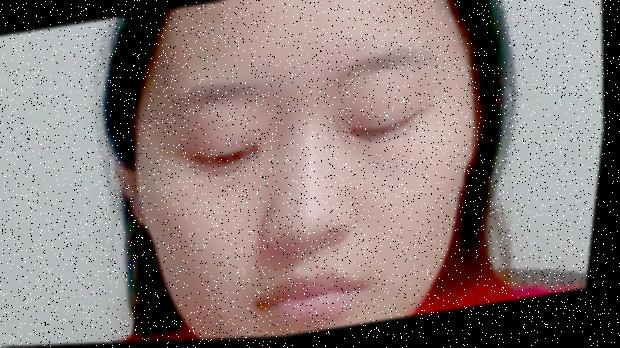eye: (218, 144, 250, 170), (363, 122, 394, 145)
iris: (198, 146, 264, 173), (355, 122, 413, 145)
